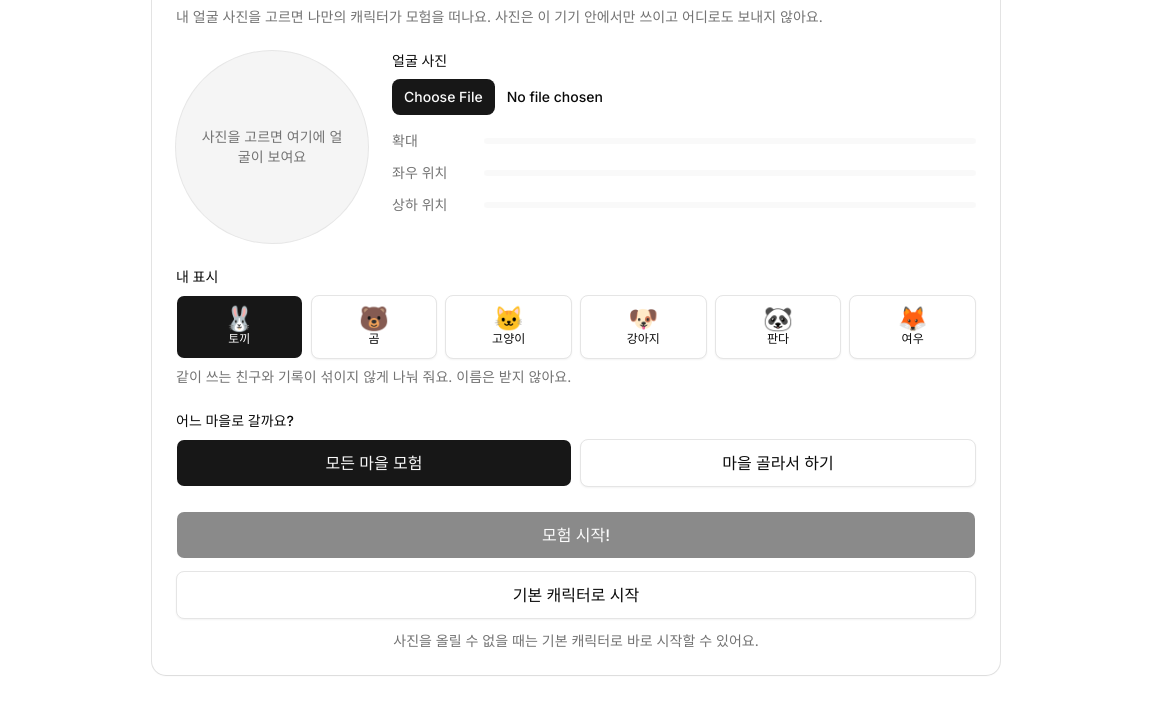
사진을 올릴 수 없어도 기본 캐릭터로 바로 시작할 수 있고 첫 마을은 산수 마을이다
(page scrolled)
Step 1. Click the button "기본 캐릭터로 시작" → click(576, 595), box top-left (176, 571), bottom-right (976, 619)
(page scrolled)
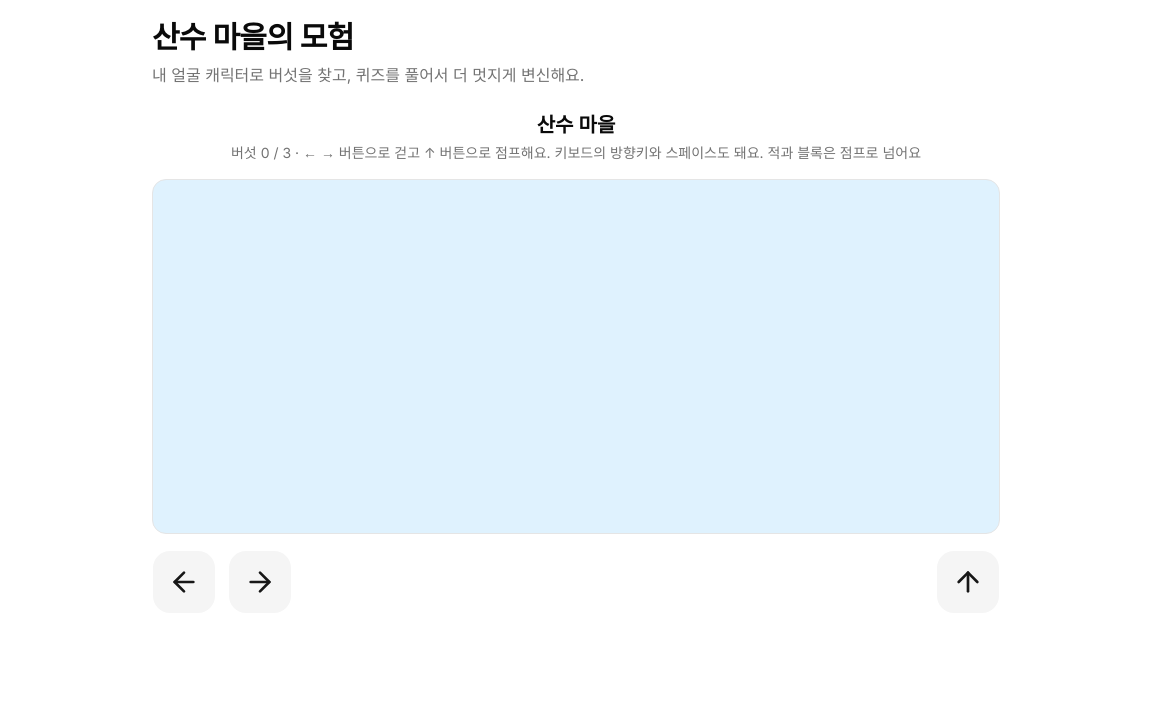
Expected: the heading "산수 마을" is shown, top-left (537, 111), bottom-right (615, 139)
